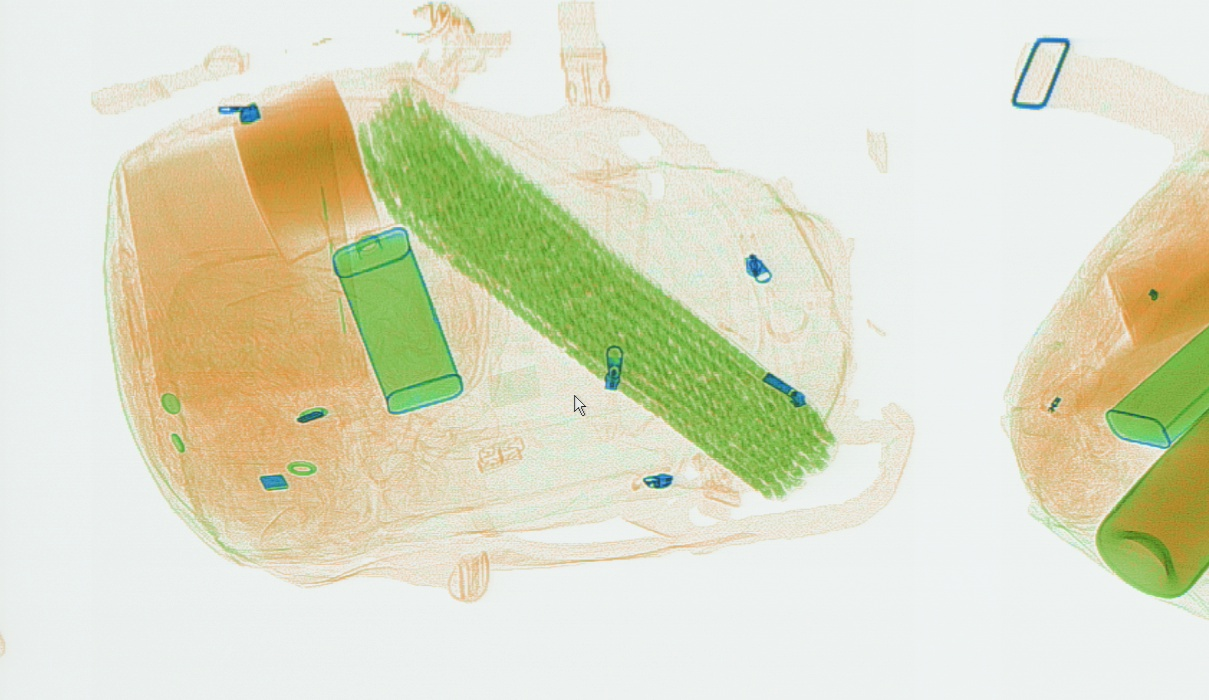firecrackers: (356, 73, 840, 504)
zippooil: (327, 223, 464, 418), (1103, 321, 1206, 451)
